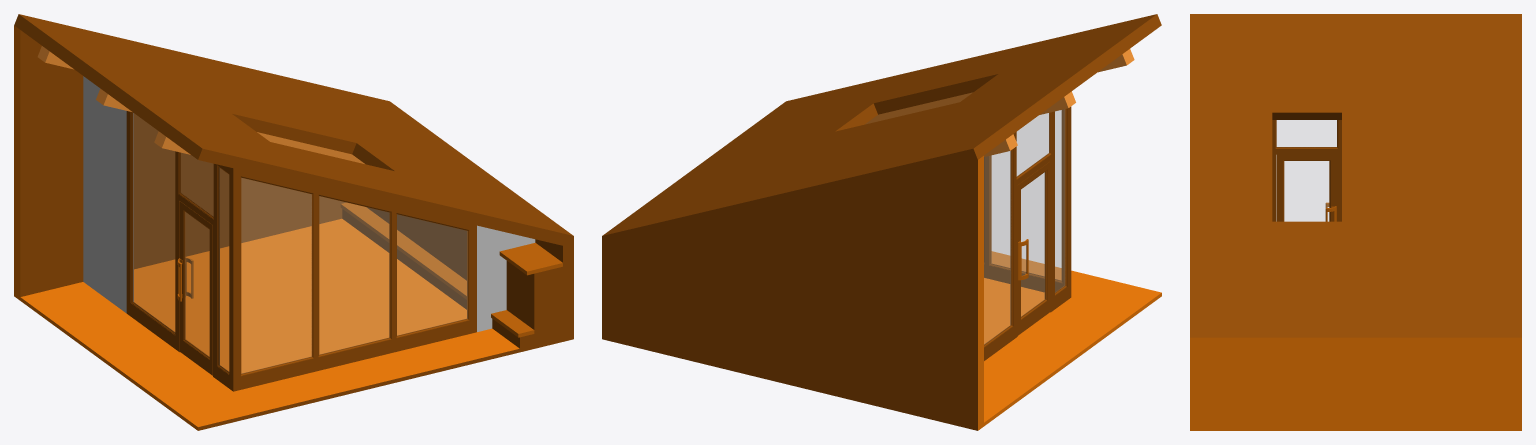
File: перегородка.obj
The picture shows the model from 3 angles, left to right: view 1: azimuth 30°, elevation 25°; view 2: azimuth 150°, elevation 25°; view 3: azimuth 270°, elevation 25°; orthographic projection. The views are drawn at different scales.
Bounding box in the file's own units: 5.29 × 3.74 × 4.43.
